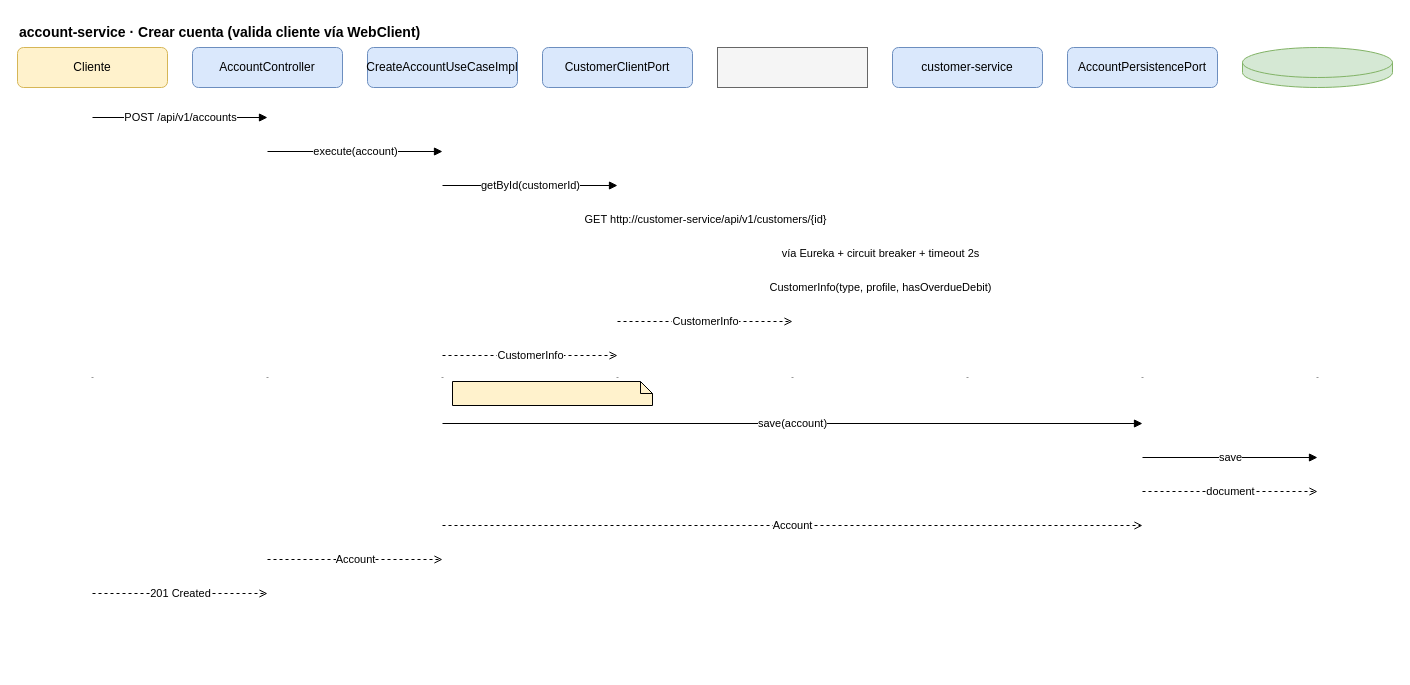
This 1410x685 diagram has some shape labels left out. Each missing label, with the box of its shape:
CustomerWebClientAdapter: (716, 46, 868, 88)
deuda -> 409 | límite tenencia -> 409: (452, 380, 652, 406)
MongoDB: (1242, 46, 1392, 88)
